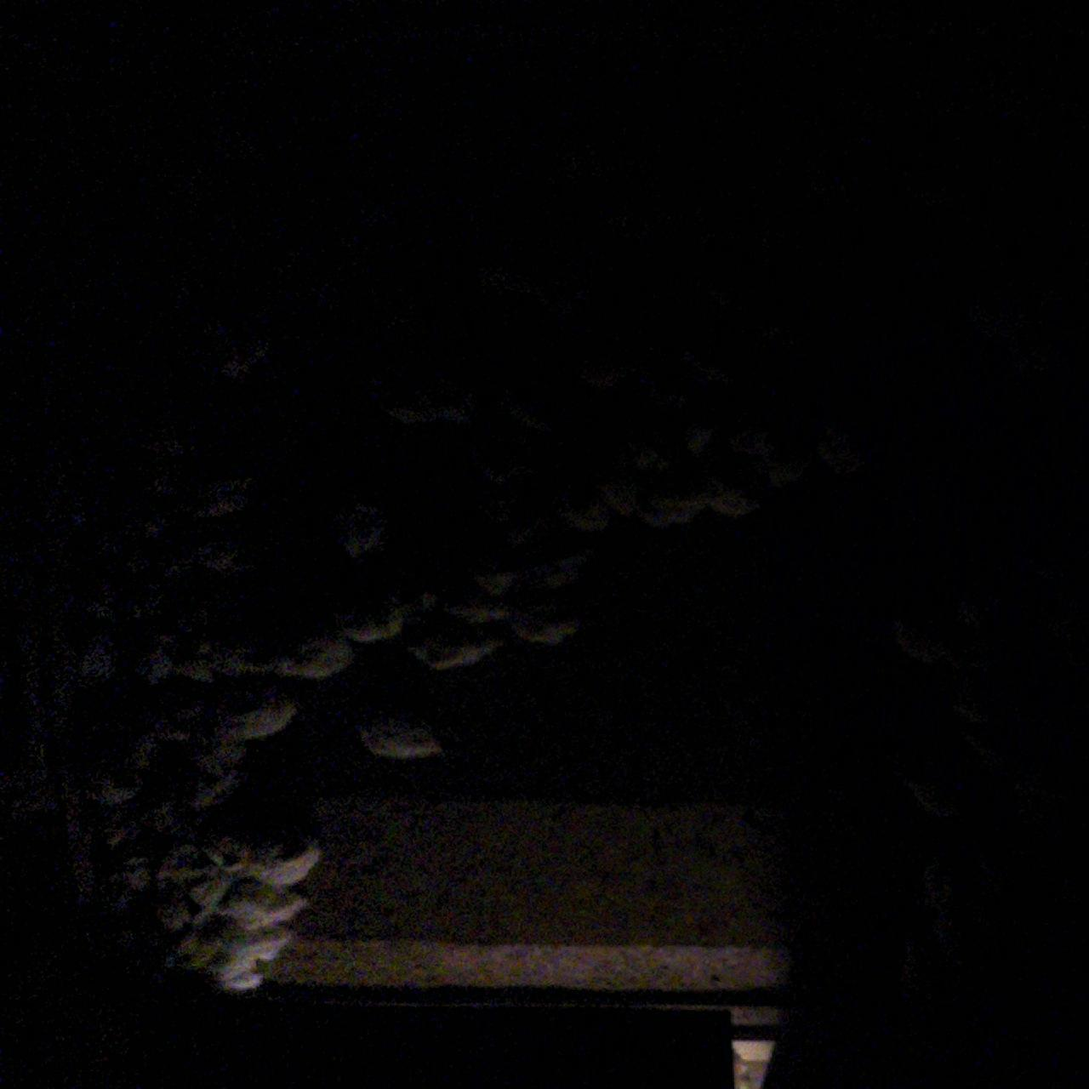chicken: (195, 926, 292, 998), (54, 806, 110, 911), (332, 591, 433, 644), (482, 256, 577, 312), (368, 373, 470, 423), (274, 627, 359, 683), (398, 627, 501, 672), (495, 386, 567, 449), (219, 886, 310, 935), (215, 696, 304, 744), (356, 710, 442, 759), (633, 475, 709, 530), (191, 738, 249, 808), (811, 420, 874, 481), (331, 500, 392, 562), (63, 765, 146, 810), (967, 301, 1032, 355), (683, 473, 764, 516), (216, 329, 278, 385), (546, 479, 610, 531), (472, 433, 532, 488), (995, 320, 1058, 372), (156, 928, 225, 975), (242, 847, 321, 888), (918, 901, 964, 969), (896, 932, 940, 1003), (626, 360, 682, 415), (898, 768, 959, 818), (173, 630, 227, 685), (754, 442, 812, 493), (141, 799, 207, 843), (886, 613, 949, 659), (133, 625, 182, 684), (913, 853, 963, 910), (510, 610, 582, 649), (211, 635, 276, 678), (114, 855, 174, 901), (958, 730, 1010, 783), (187, 536, 248, 581), (123, 720, 168, 780), (195, 474, 259, 516), (151, 701, 209, 747), (533, 548, 594, 591), (675, 344, 736, 387), (80, 570, 124, 629), (1027, 568, 1081, 616), (74, 632, 124, 683), (727, 420, 783, 465), (151, 901, 217, 938), (676, 409, 724, 459), (946, 693, 998, 739), (102, 813, 157, 856), (159, 849, 234, 880), (185, 881, 239, 924), (466, 567, 534, 601), (621, 435, 671, 481), (442, 595, 508, 629), (1009, 780, 1068, 818), (1046, 602, 1089, 654), (574, 351, 629, 390), (139, 432, 195, 470), (129, 570, 171, 620), (943, 650, 997, 688), (511, 511, 554, 552), (943, 596, 995, 629), (124, 497, 162, 537), (480, 497, 521, 528)
